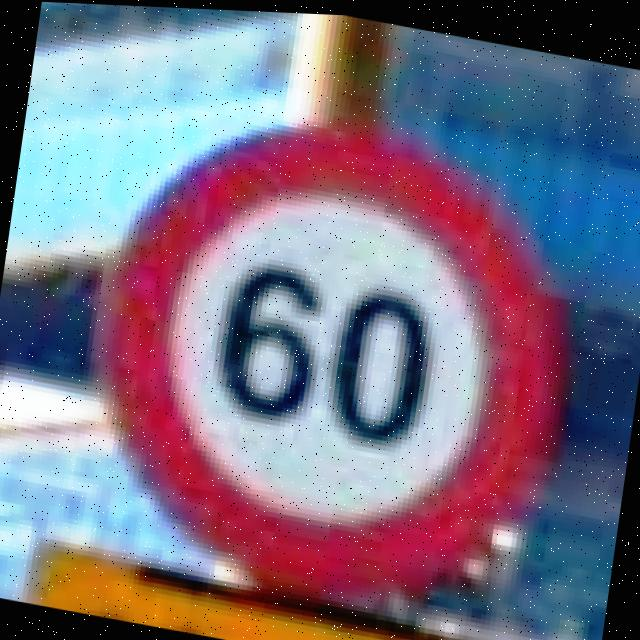max60: (58, 74, 600, 635)
